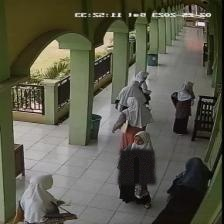Cadar_Niqab: (118, 130, 155, 184)
